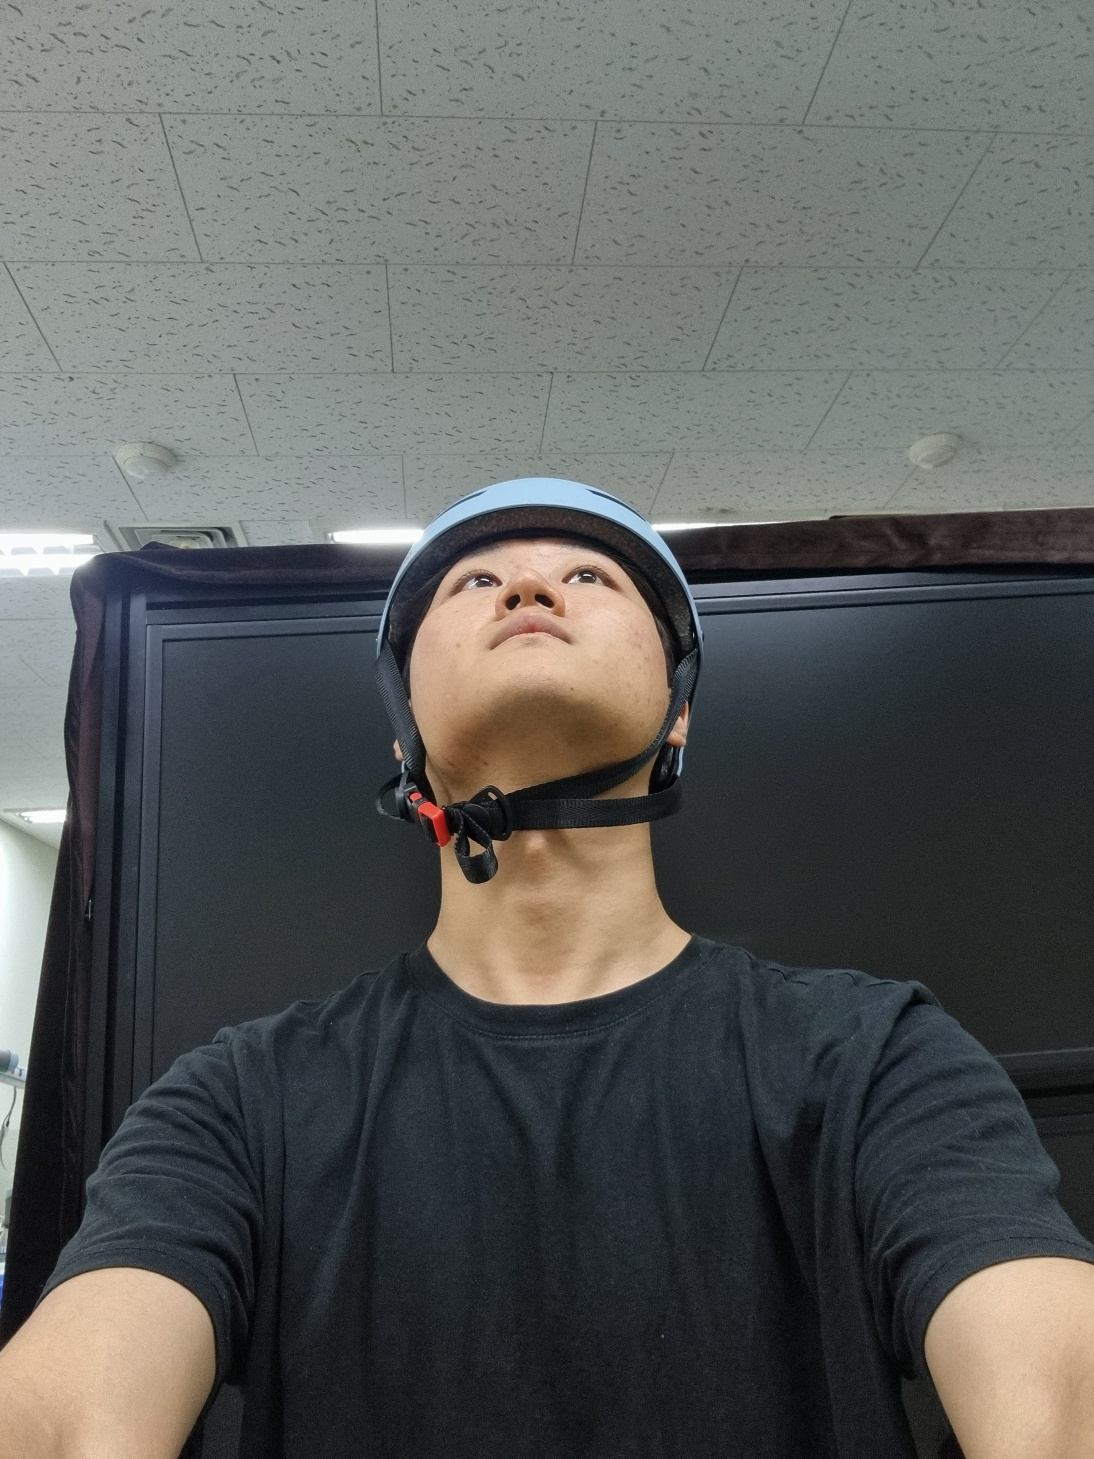Helmet: (363, 450, 744, 887)
